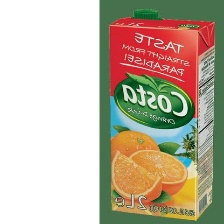carton: (105, 5, 218, 223)
